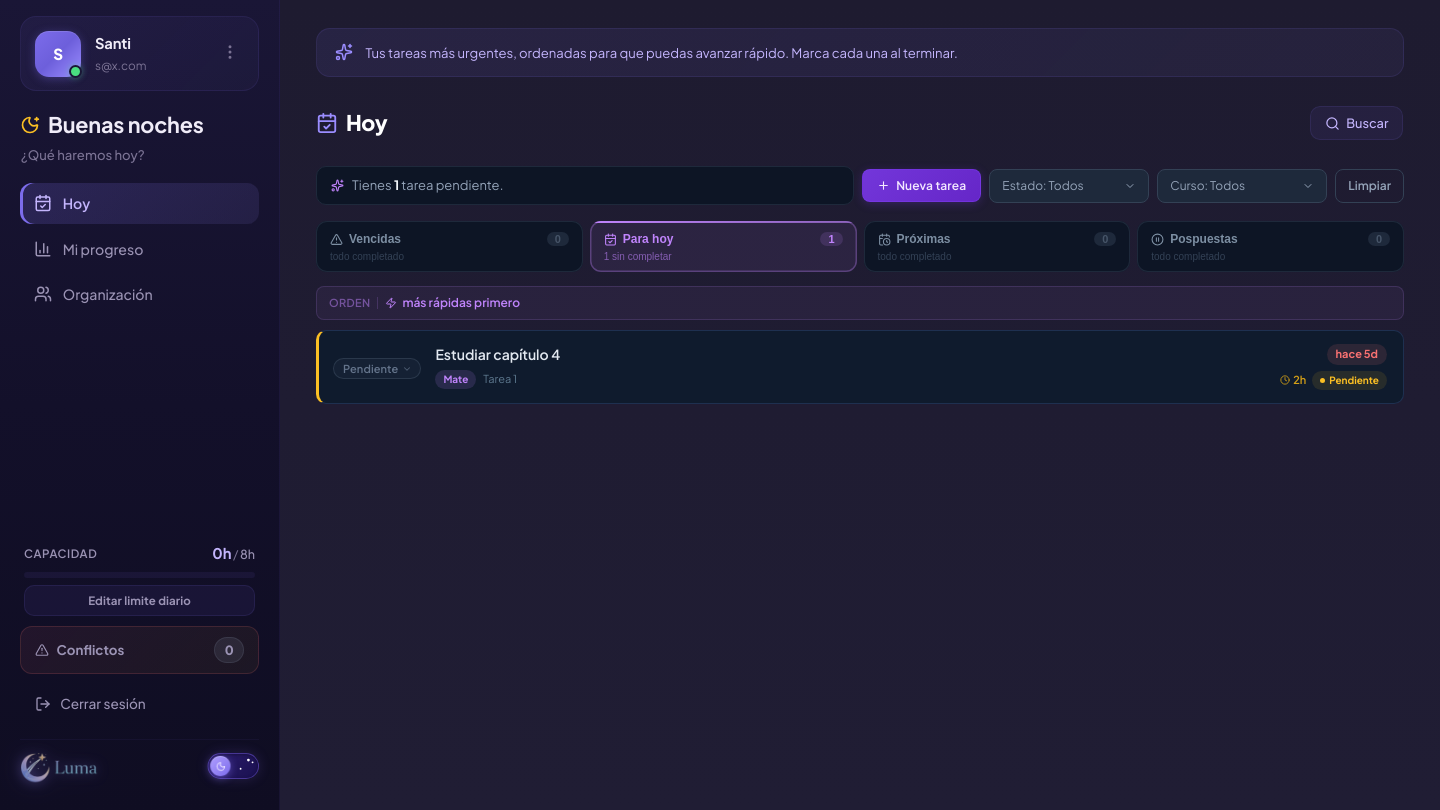
Test: Dashboard — vista de hoy con datos › abre el modal de nueva subtarea desde la vista de hoy
The image size is (1440, 810).
Expected: the element with test id "today-toolbar" is shown, [316,166,1404,205]
Click the button with test id "today-new-subtask-btn" at point(922, 186), box [862,169,981,202]
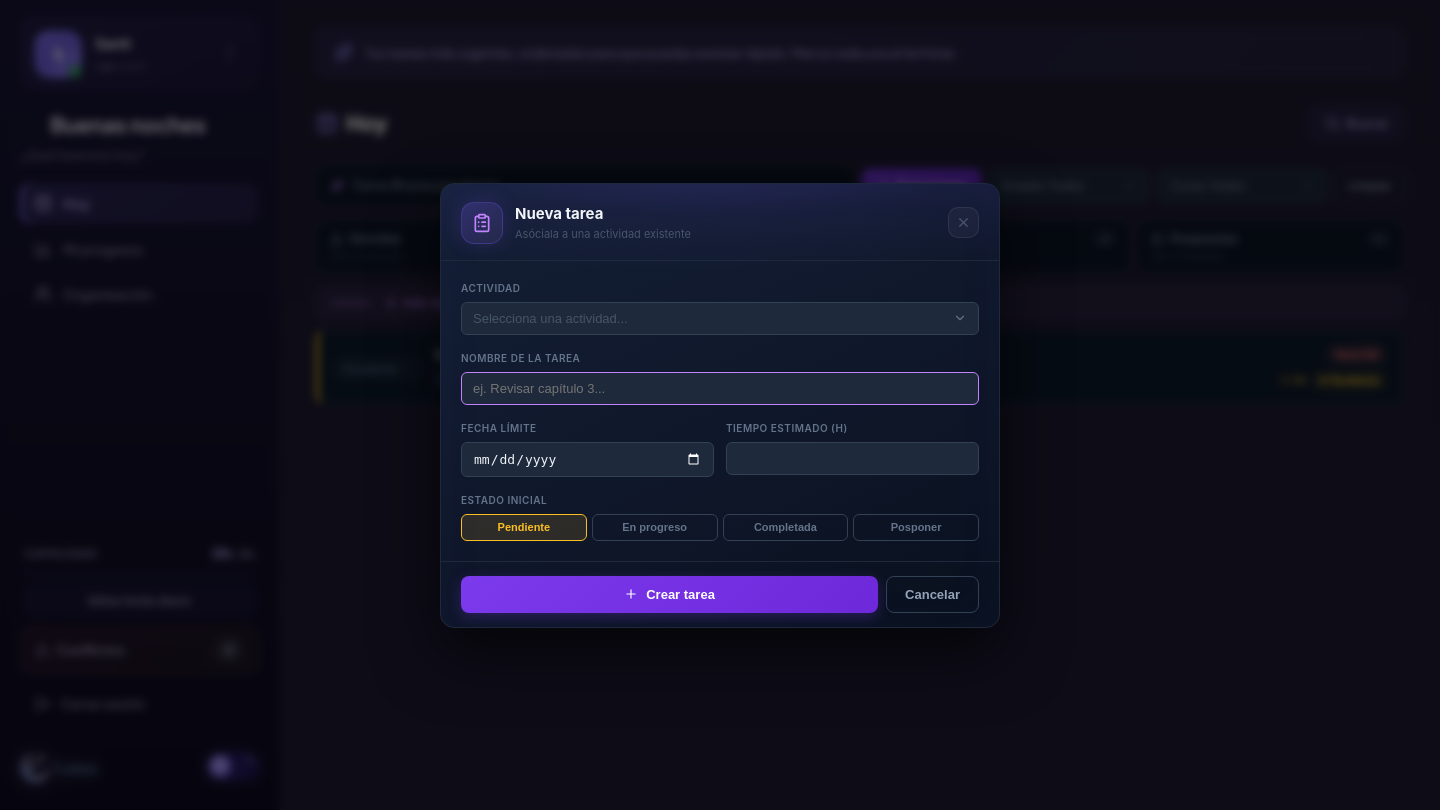
Expected: the dialog with test id "create-subtask-modal" is shown, [440,182,1000,628]
